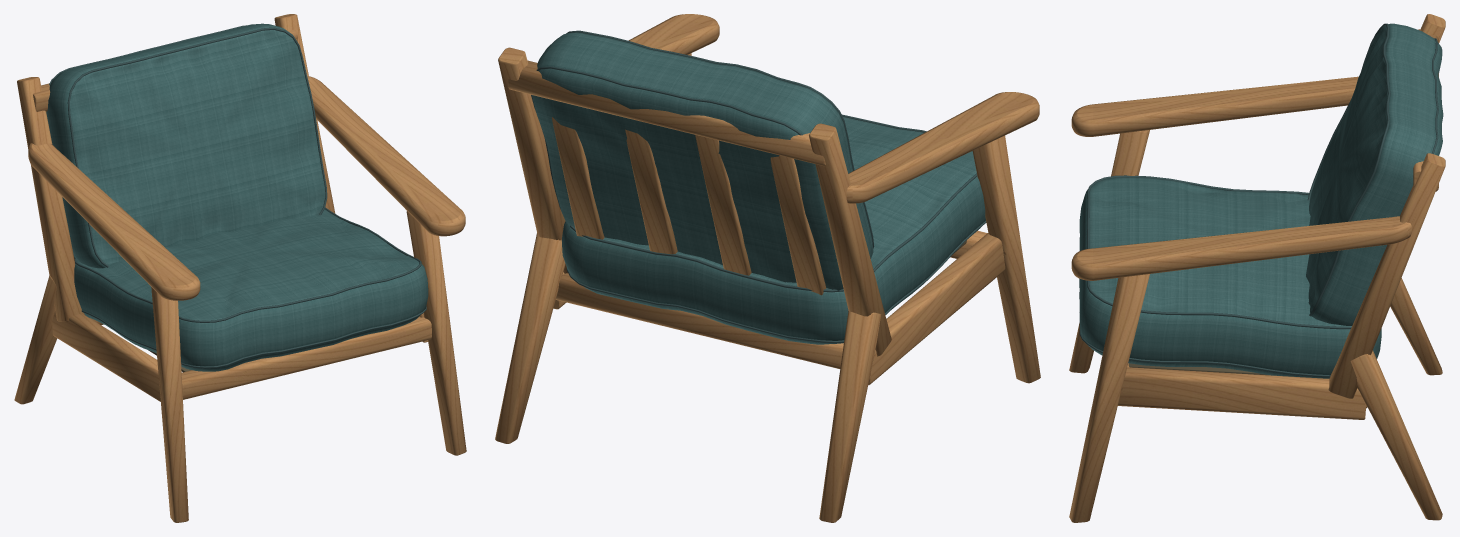
3 renders of one model, left to right at view 1: azimuth 30°, elevation 25°; view 2: azimuth 150°, elevation 25°; view 3: azimuth 270°, elevation 25°, orthographic. The views are drawn at different scales.
Visible parts, largest first — view 1: sample-chair; view 2: sample-chair; view 3: sample-chair.
Boxes of the visible parts, left/top/right/bottom form: sample-chair: left=14, top=14, right=466, bottom=522; sample-chair: left=495, top=14, right=1040, bottom=522; sample-chair: left=1069, top=14, right=1445, bottom=522.
Size of the model in its own units: 0.7862 by 0.8291 by 0.7609.
Materials: 5 (2 with a texture image).
